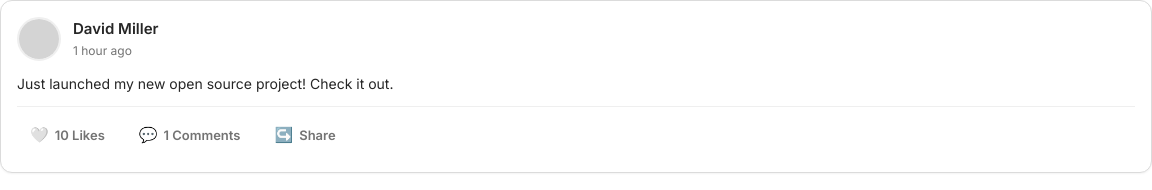
Social Media Dashboard - Core Component Suite › Post Component (State Management & Data Flow) › increments and decrements likes using useState
This screenshot has width=1152, height=190.
What coordinates should you click on to do the following:
click the button with aria-label "like post"
I would click on:
 (67, 135)
Its box is [17,115,118,156].
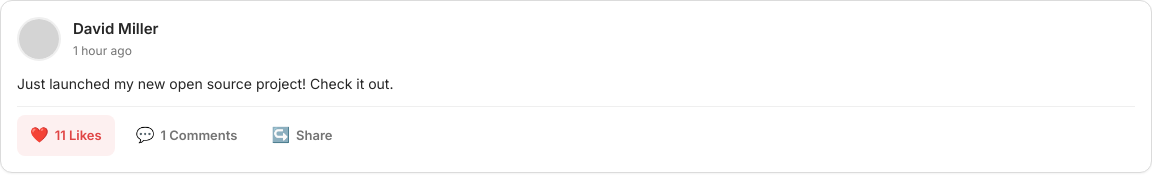
Expected: the text "11 Likes" is shown, [55,126,102,145]
What coordinates should you click on to do the following:
click the button with aria-label "like post"
I would click on:
 (66, 135)
Its box is [17,115,115,156].
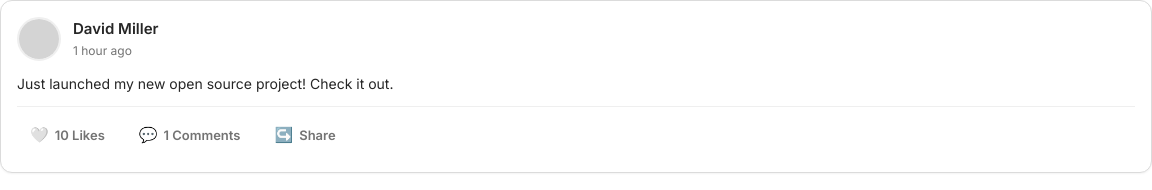
Expected: the text "10 Likes" is shown, [55,126,105,145]
